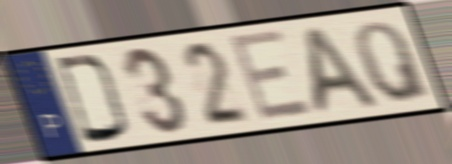2: (182, 38, 253, 129)
3: (121, 43, 190, 138)
A: (304, 23, 384, 119)
D: (52, 53, 135, 146)
E: (225, 27, 317, 127)
Q: (353, 19, 436, 106)
